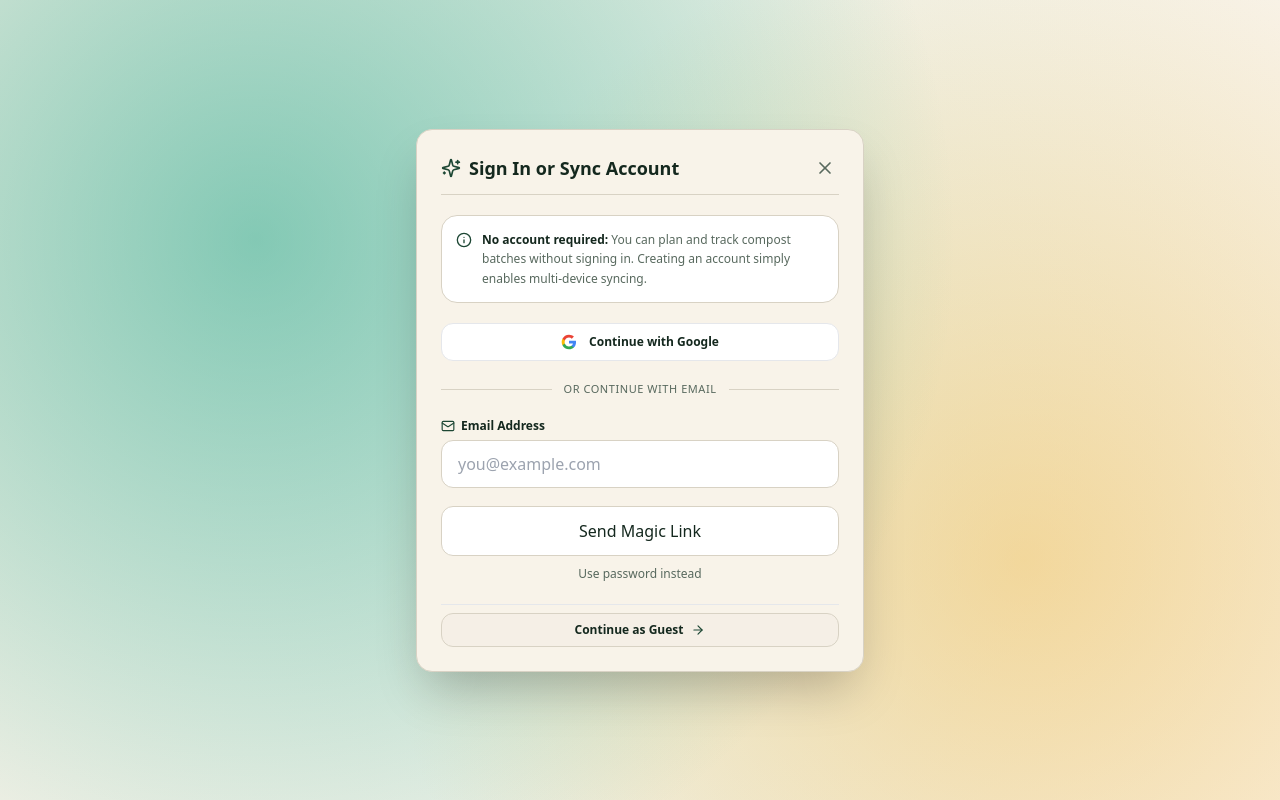
Test: Google Authentication Integration › AuthModal Google Sign-In › executes Google sign-in and updates local authentication state
Click the button "Continue with Google" at (640, 342), box x1=441 y1=323 x2=839 y2=361
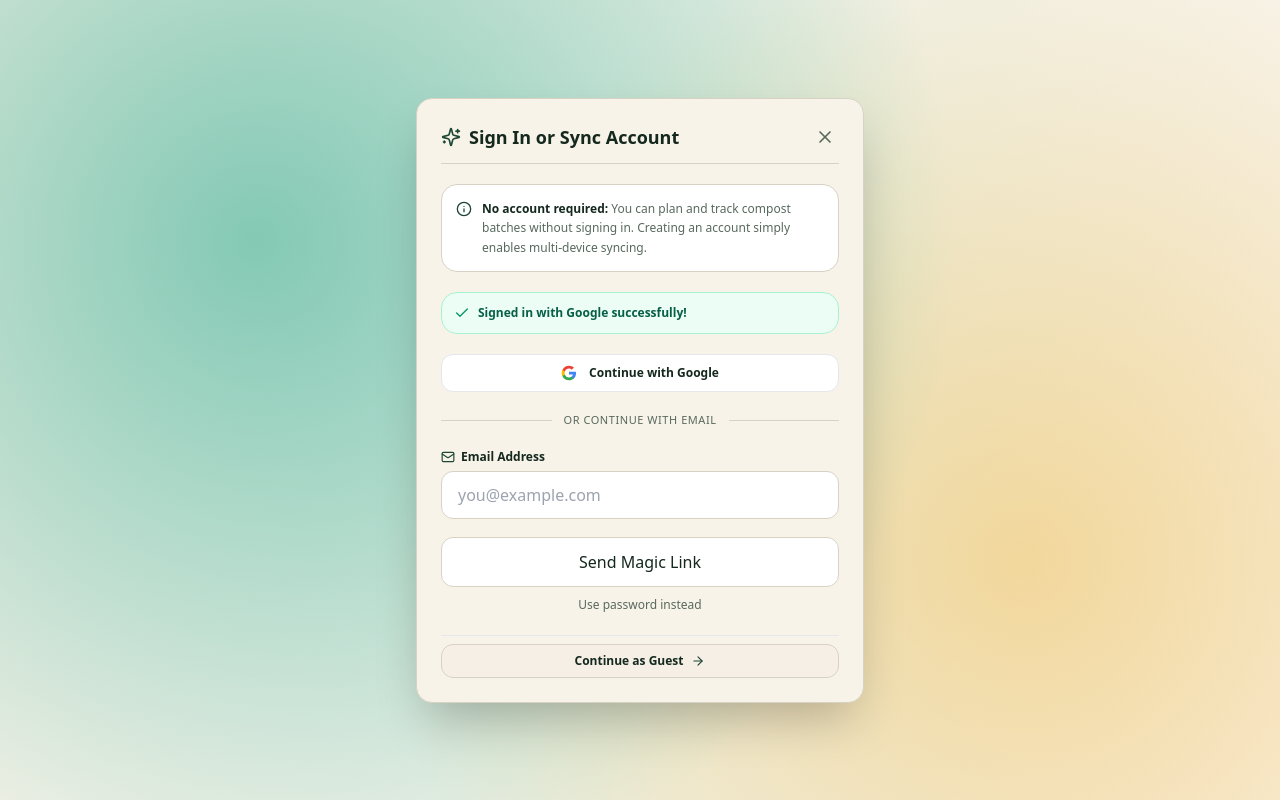
Expected: the text "Signed in with Google successfully!" is shown, x1=478 y1=305 x2=687 y2=321
